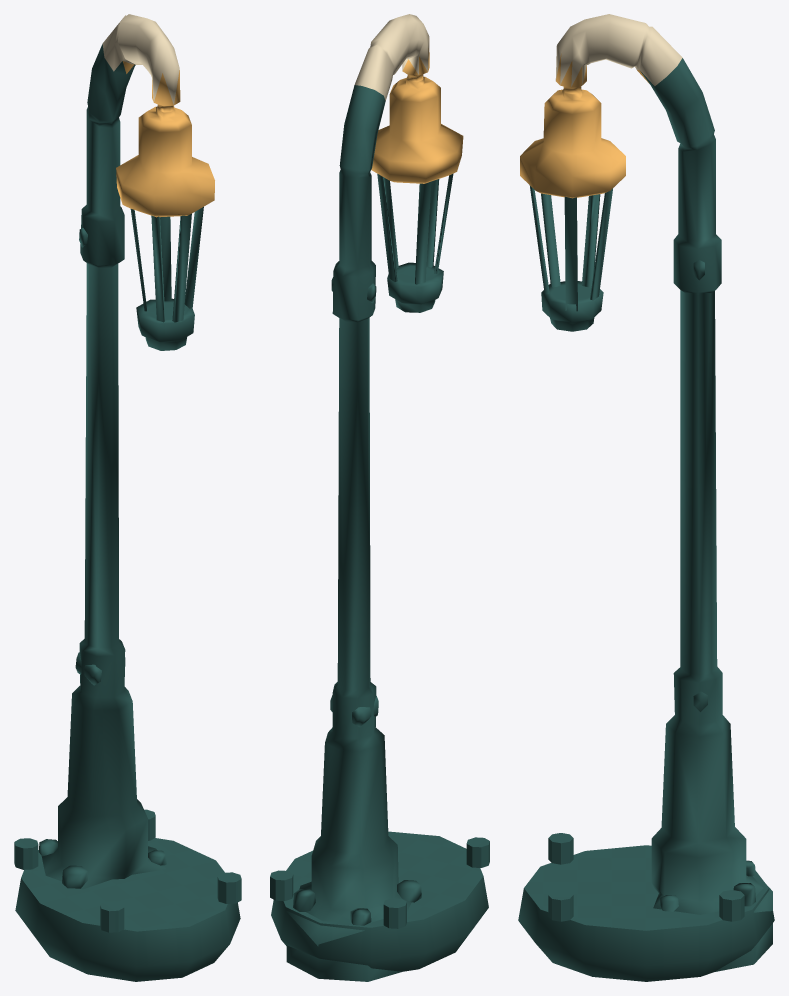
The model's file is H05_atlas_v1.glb.
3 views of the same model, side by side, from view 1: azimuth 30°, elevation 25°; view 2: azimuth 150°, elevation 25°; view 3: azimuth 270°, elevation 25° (orthographic). The views are drawn at different scales.
Visible parts, largest first — view 1: H05_Geometry; view 2: H05_Geometry; view 3: H05_Geometry.
Boxes of the visible parts, x1,y1,x2,y2 form: H05_Geometry: (14,14,241,981); H05_Geometry: (270,14,489,981); H05_Geometry: (518,14,774,981).
Size of the model in its own units: 2.5 by 12 by 3.
Materials: 1 (1 with a texture image).
